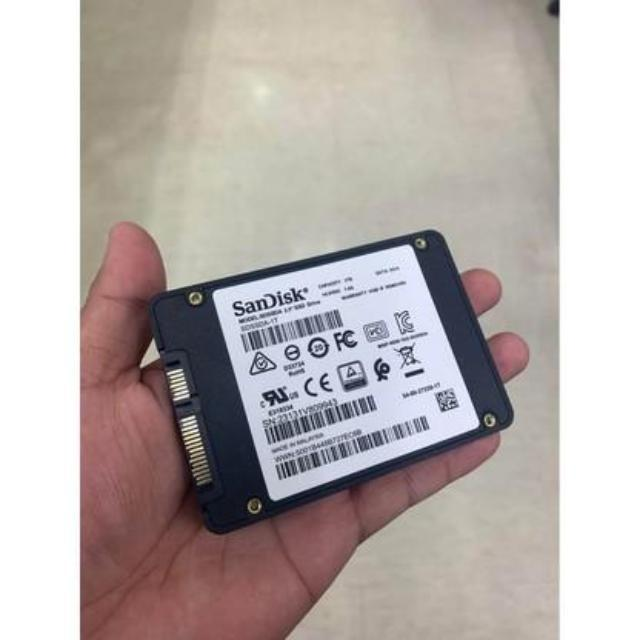DISK: (141, 228, 521, 540)
